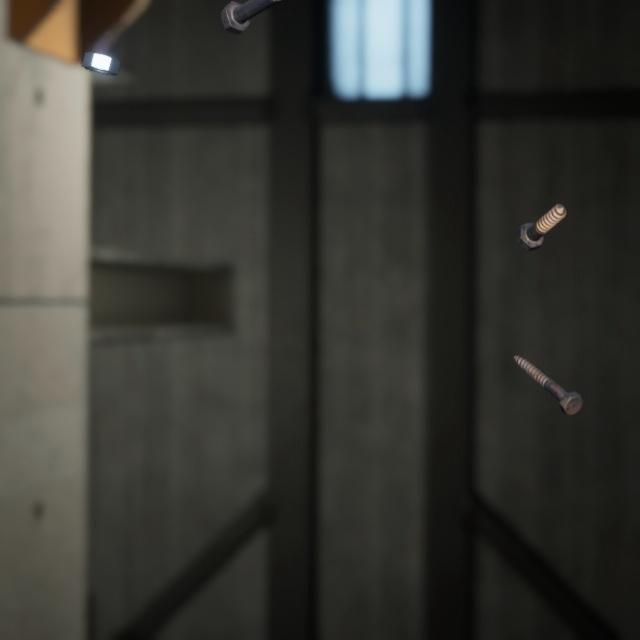bolt: (509, 332, 587, 400), (511, 183, 571, 240), (215, 0, 273, 31)
nut: (77, 37, 124, 69)
